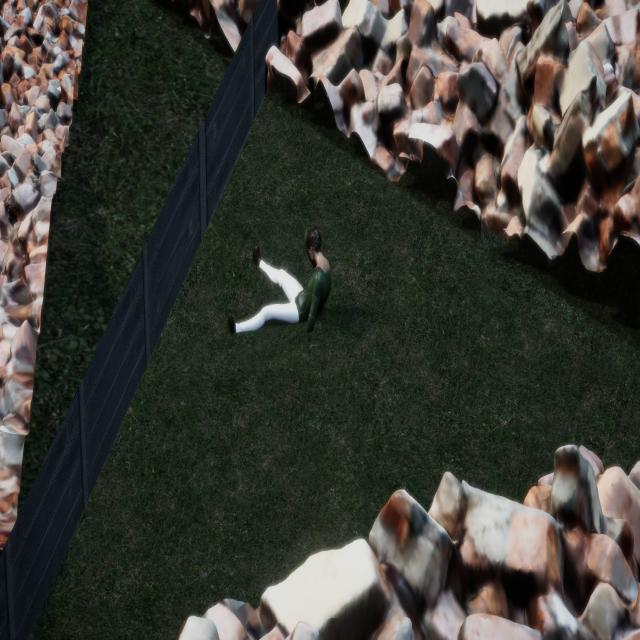Human: (225, 204, 346, 364)
